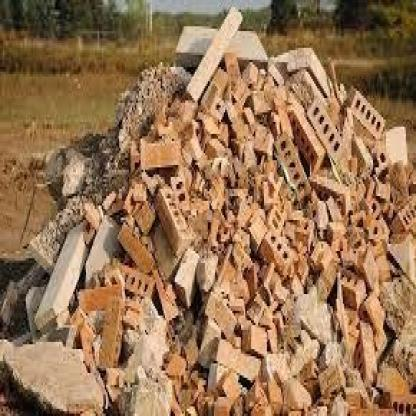brick: (2, 6, 414, 413)
